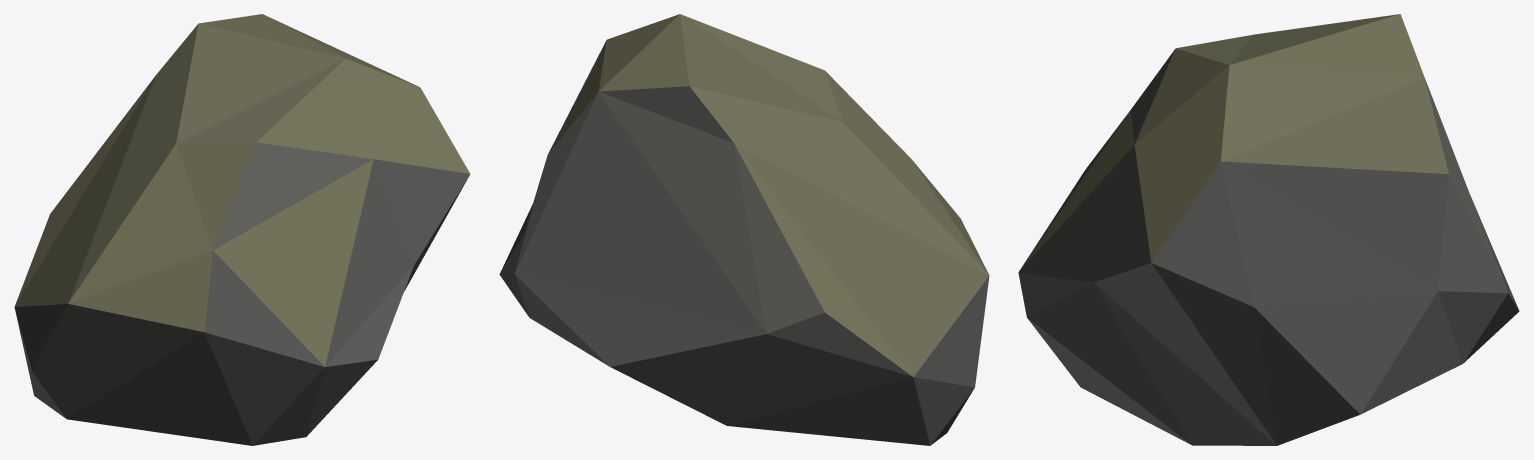
The model's file is rock.glb.
3 views of the same model, side by side, from view 1: azimuth 30°, elevation 25°; view 2: azimuth 150°, elevation 25°; view 3: azimuth 270°, elevation 25° (orthographic). The views are drawn at different scales.
Parts seen in each view (by area): view 1: rock; view 2: rock; view 3: rock.
Part boxes in pixels (x1,y1,x2,y2): rock: (14, 14, 470, 445); rock: (499, 14, 989, 445); rock: (1018, 14, 1519, 445).
Bounding box in the file's own units: 1.16 × 0.8682 × 1.01.
